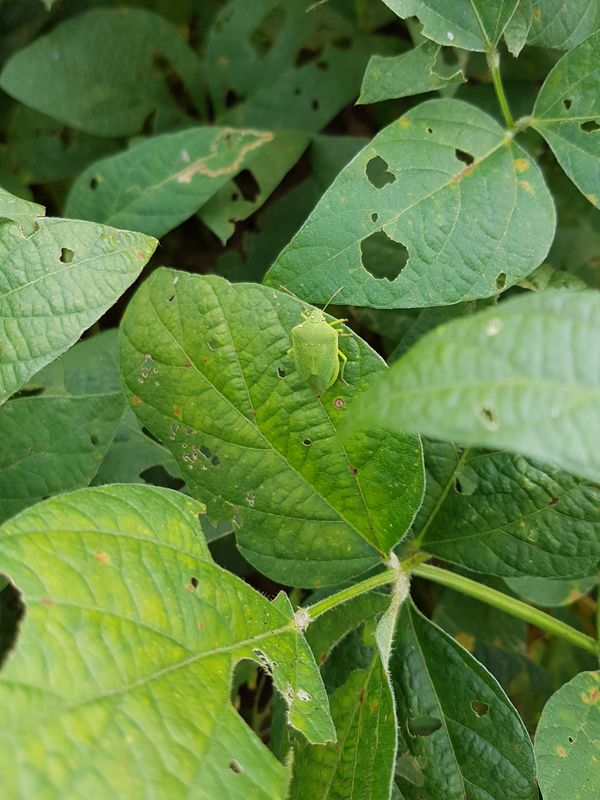Nezara_viridula_adulto: (260, 275, 367, 407)
